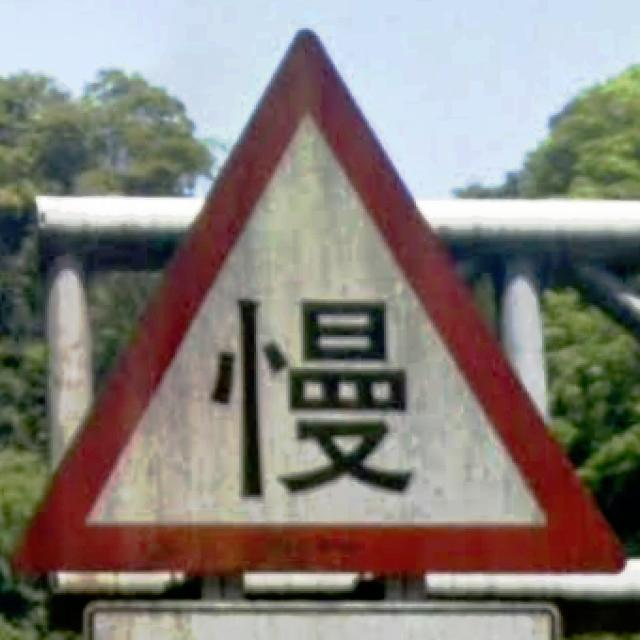slow: (23, 30, 629, 576)
